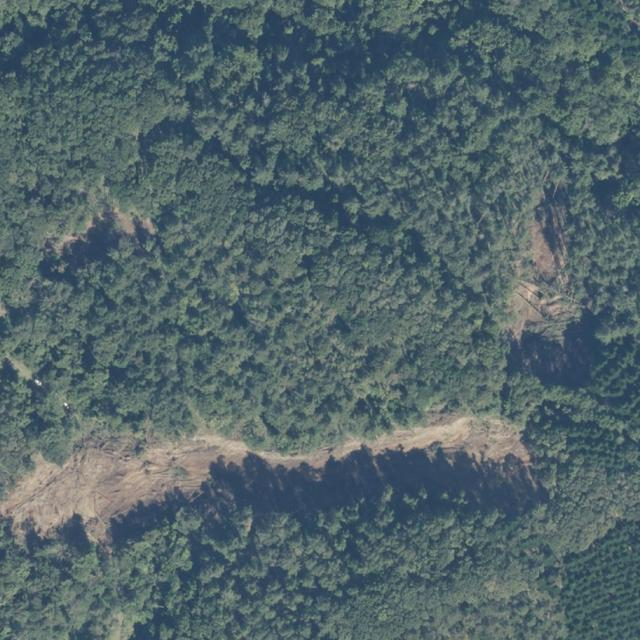landslide: (0, 417, 531, 544)
